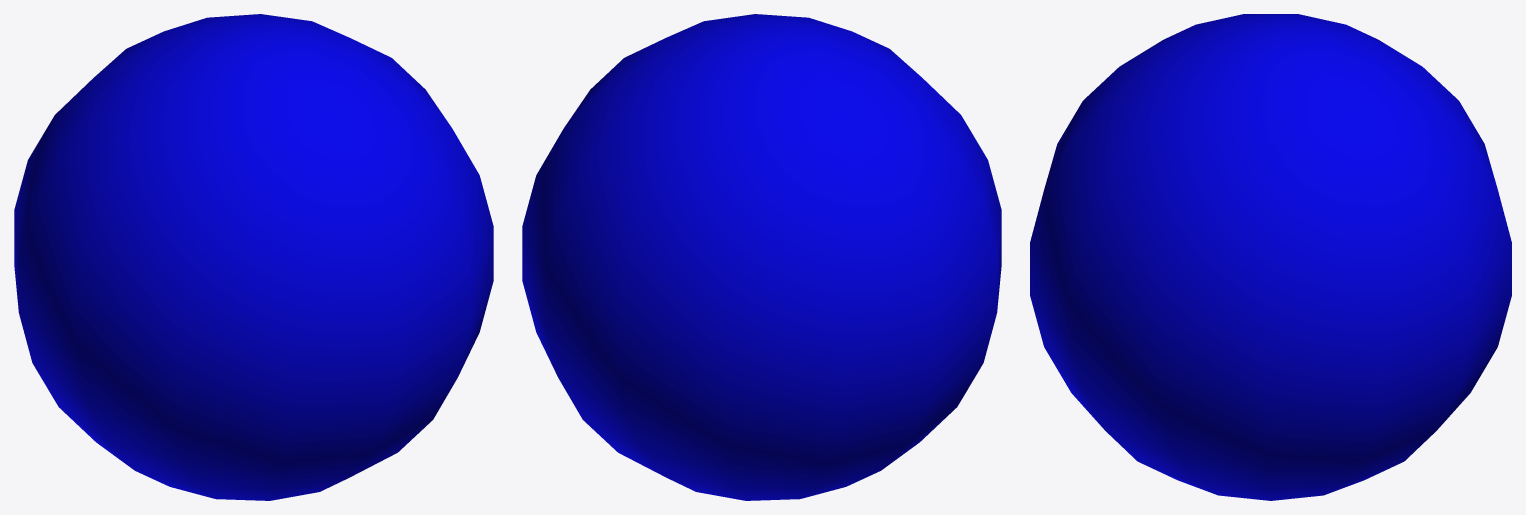
File: bala-canon-f.fbx
The picture shows the model from 3 angles, left to right: view 1: azimuth 30°, elevation 25°; view 2: azimuth 150°, elevation 25°; view 3: azimuth 270°, elevation 25°; orthographic projection.
Parts seen in each view (by area): view 1: catapultpSphere15; view 2: catapultpSphere15; view 3: catapultpSphere15.
Part boxes in pixels (left/top/right/bottom): catapultpSphere15: left=14, top=14, right=493, bottom=500; catapultpSphere15: left=522, top=14, right=1001, bottom=500; catapultpSphere15: left=1030, top=14, right=1511, bottom=500.
Bounding box in the file's own units: 4.18 × 4.28 × 4.21.
